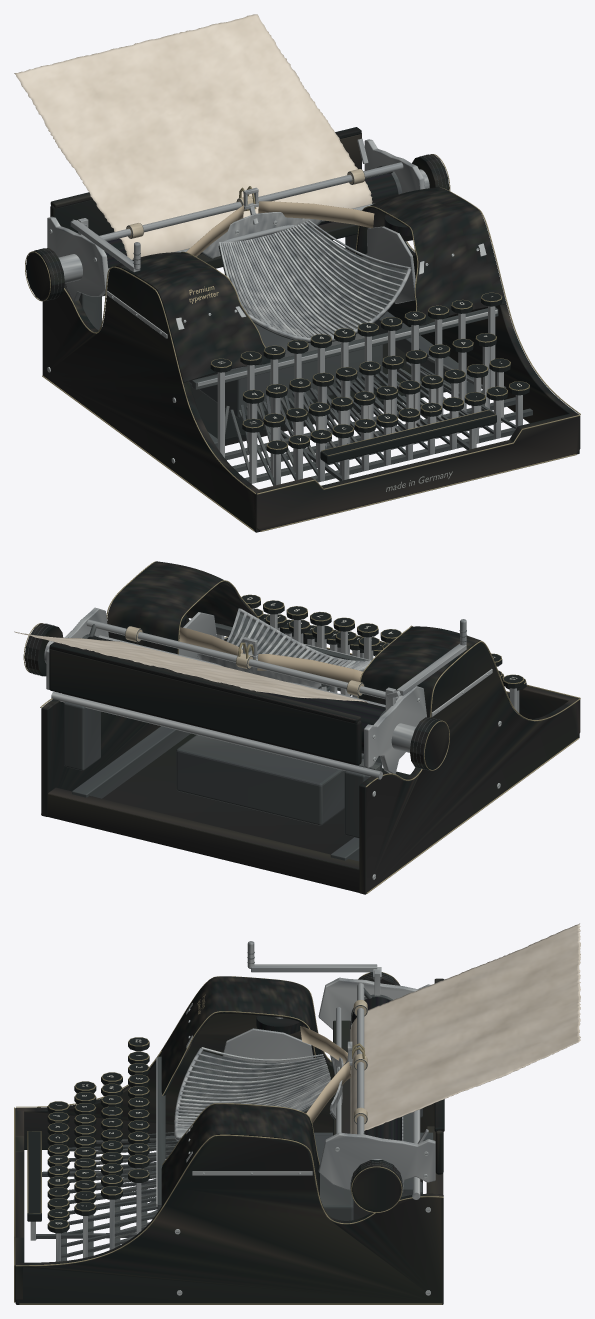
File: typewriter-sol.glb
The picture shows the model from 3 angles, top to bottom: view 1: azimuth 30°, elevation 25°; view 2: azimuth 150°, elevation 25°; view 3: azimuth 270°, elevation 25°; orthographic projection.
Visible parts, largest first — view 1: Single continuous curled and deckle edged paper sheet, Left continuous cast side casing, Back carriage guide rod, Carriage rack backing, Left curved ribbon spool hood, Key 00 00 octagonal cup and brass rim, Basket front thin worn edge, Covered ribbon supply spool, Left carriage plate screw; view 2: Left continuous cast side casing, Carriage rack backing, Back carriage guide rod, Left curved ribbon spool hood, Single continuous curled and deckle edged paper sheet, Key 00 00 octagonal cup and brass rim, Covered ribbon supply spool, Basket front thin worn edge, Paper bail cream roller 0, Left carriage plate screw; view 3: Left continuous cast side casing, Single continuous curled and deckle edged paper sheet, Back carriage guide rod, Key 00 00 octagonal cup and brass rim, Carriage rack backing, Left curved ribbon spool hood, Basket front thin worn edge, Covered ribbon supply spool, Left carriage plate screw.
Part boxes in pixels (box(x1,y1,x2,y2)): Single continuous curled and deckle edged paper sheet: box(14, 14, 372, 259); Left continuous cast side casing: box(26, 133, 580, 532); Back carriage guide rod: box(47, 138, 522, 485); Carriage rack backing: box(34, 154, 532, 485); Left curved ribbon spool hood: box(50, 127, 506, 382); Key 00 00 octagonal cup and brass rim: box(210, 292, 529, 463); Basket front thin worn edge: box(25, 154, 580, 531); Covered ribbon supply spool: box(100, 167, 412, 267); Left carriage plate screw: box(47, 218, 486, 463); Left continuous cast side casing: box(24, 612, 580, 894); Carriage rack backing: box(27, 612, 501, 877); Back carriage guide rod: box(44, 607, 519, 779); Left curved ribbon spool hood: box(49, 561, 506, 723); Single continuous curled and deckle edged paper sheet: box(14, 631, 367, 702); Key 00 00 octagonal cup and brass rim: box(241, 594, 526, 690); Covered ribbon supply spool: box(87, 614, 385, 753); Basket front thin worn edge: box(23, 561, 580, 893); Paper bail cream roller 0: box(125, 626, 363, 696); Left carriage plate screw: box(241, 619, 501, 879); Left continuous cast side casing: box(14, 972, 443, 1304); Single continuous curled and deckle edged paper sheet: box(350, 923, 580, 1134); Back carriage guide rod: box(30, 941, 435, 1261); Key 00 00 octagonal cup and brass rim: box(27, 1037, 149, 1233); Carriage rack backing: box(36, 952, 433, 1293); Left curved ribbon spool hood: box(161, 976, 444, 1207); Basket front thin worn edge: box(14, 972, 443, 1304); Covered ribbon supply spool: box(256, 997, 401, 1140); Left carriage plate screw: box(174, 1003, 430, 1295).
Bounding box in the file's own units: 0.815 × 0.4747 × 1.
